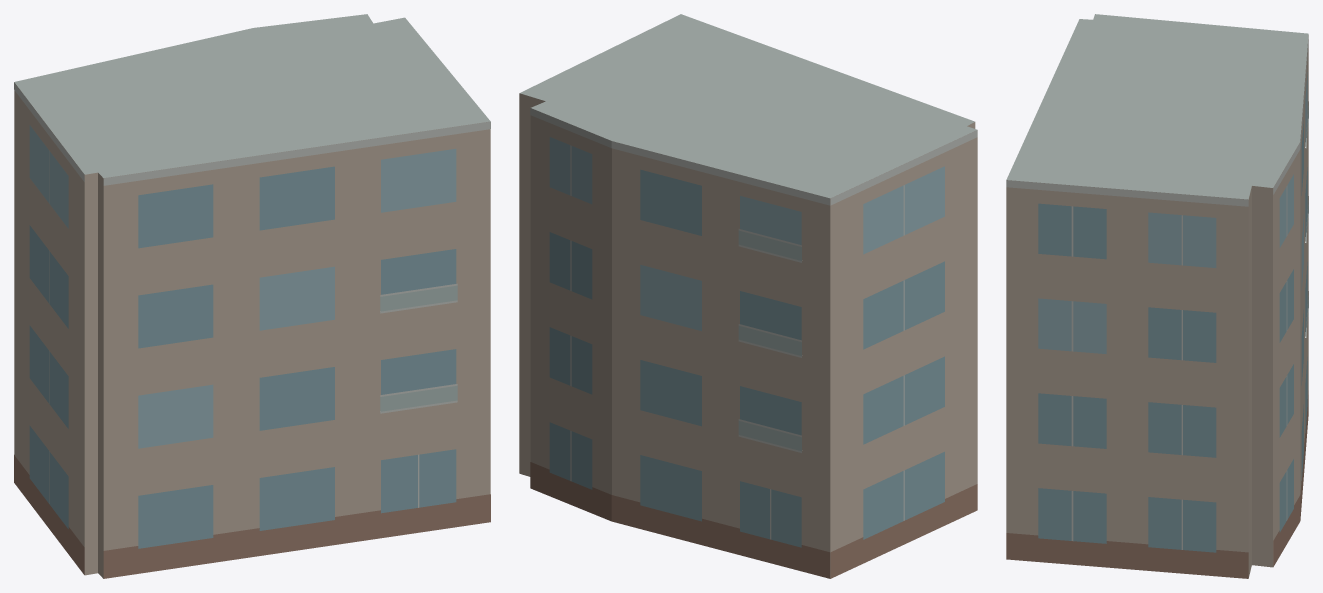
Rendered from survey-upis-32620812.glb.
3 renders of one model, left to right at view 1: azimuth 30°, elevation 25°; view 2: azimuth 150°, elevation 25°; view 3: azimuth 270°, elevation 25°, orthographic. The views are drawn at different scales.
Parts seen in each view (by area): view 1: survey-upis-32620812.tmp; view 2: survey-upis-32620812.tmp; view 3: survey-upis-32620812.tmp.
Boxes of the visible parts, <box> form: survey-upis-32620812.tmp: <box>14,14,490,578</box>; survey-upis-32620812.tmp: <box>519,14,977,578</box>; survey-upis-32620812.tmp: <box>1006,14,1308,578</box>.
Bounding box in the file's own units: 13.33 × 12.7 × 9.18.
